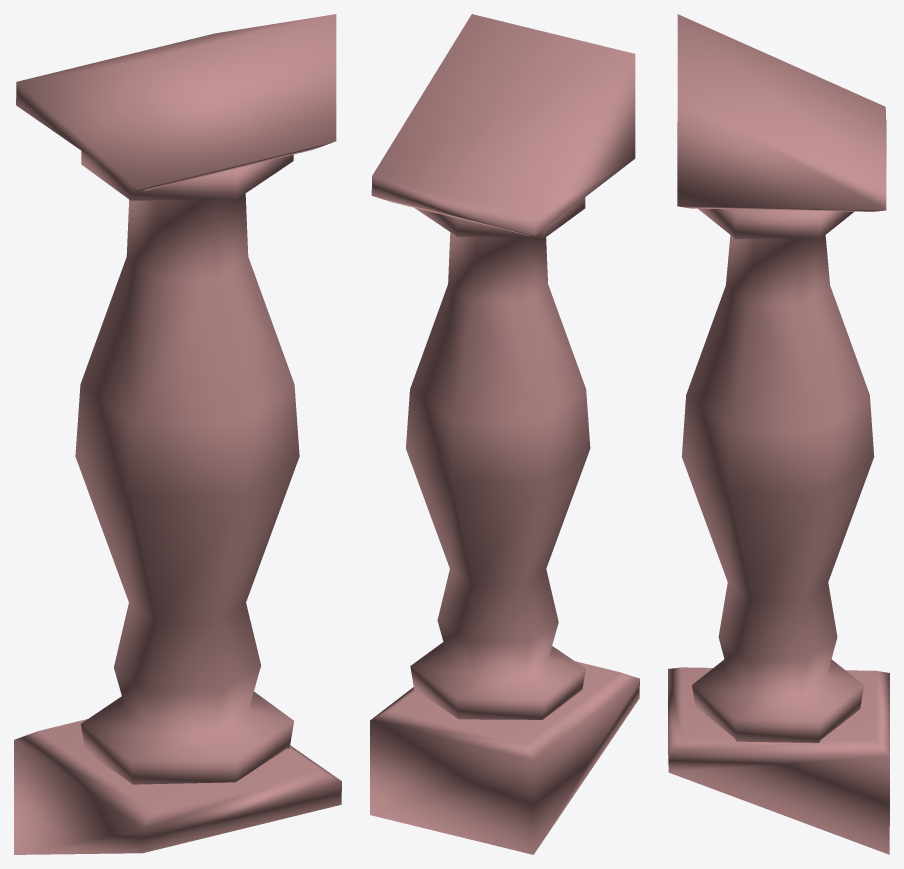
Rendered from Stone_Baluster_D_Pillar_01_Lod0.fbx.
3 renders of one model, left to right at view 1: azimuth 30°, elevation 25°; view 2: azimuth 150°, elevation 25°; view 3: azimuth 270°, elevation 25°, orthographic. The views are drawn at different scales.
Parts seen in each view (by area): view 1: Stone_Baluster_D_Pillar_01_Lod0; view 2: Stone_Baluster_D_Pillar_01_Lod0; view 3: Stone_Baluster_D_Pillar_01_Lod0.
Part boxes in pixels (left/top/right/bottom): Stone_Baluster_D_Pillar_01_Lod0: left=14, top=14, right=341, bottom=854; Stone_Baluster_D_Pillar_01_Lod0: left=370, top=14, right=639, bottom=854; Stone_Baluster_D_Pillar_01_Lod0: left=668, top=14, right=889, bottom=854.
Bounding box in the file's own units: 20.01 × 84.94 × 22.54.
